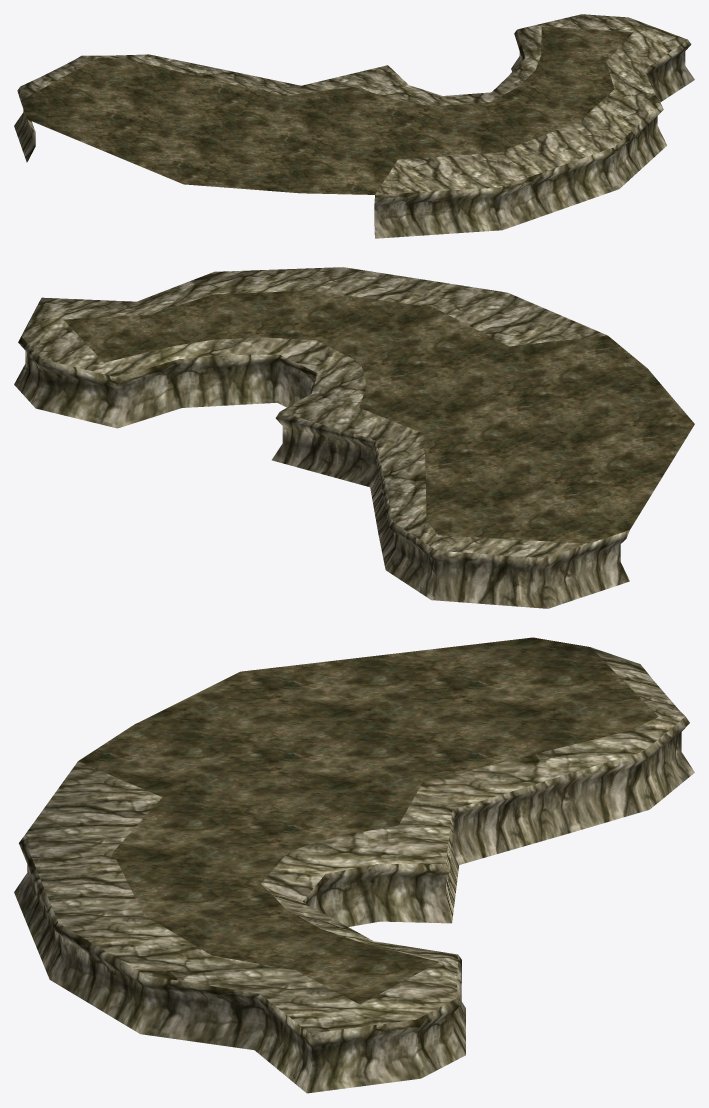
File: CB_NEWPLAYSURFACE_CB_PLAYSURFACE148.fbx
The picture shows the model from 3 angles, top to bottom: view 1: azimuth 30°, elevation 25°; view 2: azimuth 150°, elevation 25°; view 3: azimuth 270°, elevation 25°; orthographic projection. The views are drawn at different scales.
Visible parts, largest first — view 1: CB_NEWPLAYSURFACE_CB_PLAYSURFACE148; view 2: CB_NEWPLAYSURFACE_CB_PLAYSURFACE148; view 3: CB_NEWPLAYSURFACE_CB_PLAYSURFACE148.
Part boxes in pixels (box(x1,y1,x2,y2)): CB_NEWPLAYSURFACE_CB_PLAYSURFACE148: box(14, 14, 694, 238); CB_NEWPLAYSURFACE_CB_PLAYSURFACE148: box(14, 267, 694, 608); CB_NEWPLAYSURFACE_CB_PLAYSURFACE148: box(14, 637, 694, 1093).
Bounding box in the file's own units: 420171 × 30000 × 305773.
3 materials, 3 textured.
